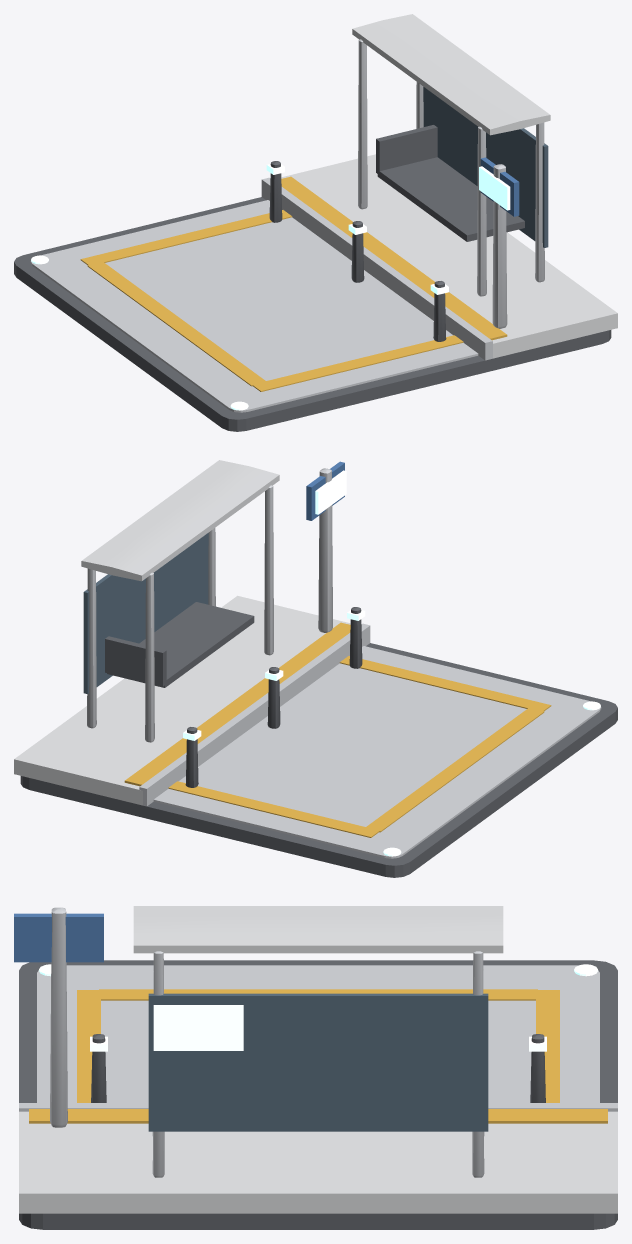
Rendered from hover-transit-and-antigrav-fleet-kerbside-drop-off-mod-1ab418db__17123.glb.
The picture shows the model from 3 angles, top to bottom: view 1: azimuth 30°, elevation 25°; view 2: azimuth 150°, elevation 25°; view 3: azimuth 270°, elevation 25°; orthographic projection. The views are drawn at different scales.
Parts seen in each view (by area): view 1: kerbside-drop-off-module; view 2: kerbside-drop-off-module; view 3: kerbside-drop-off-module.
Boxes of the visible parts, left/top/right/bottom form: kerbside-drop-off-module: left=14, top=14, right=617, bottom=431; kerbside-drop-off-module: left=14, top=460, right=617, bottom=877; kerbside-drop-off-module: left=14, top=906, right=617, bottom=1229.
Size of the model in its own units: 6 by 2.98 by 6.05.
